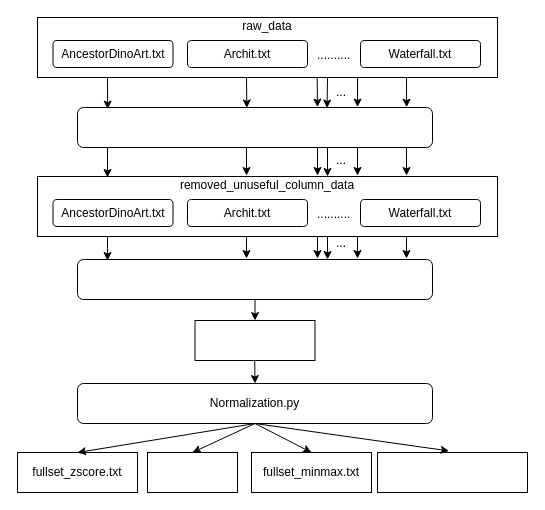
Some shapes in this 545 by 510 pixel diagram are drawn without their labels. Each missing label, with the centre of its shape:
"fullset_l2.txt" belongs at point (192, 472).
"fullset_original.txt" belongs at point (254, 340).
"fullset_zscore_mix_l2.txt" belongs at point (452, 472).
"Mix_Dataset.py" belongs at point (254, 279).
"Remove_Unuseful_Column.py" belongs at point (254, 127).
